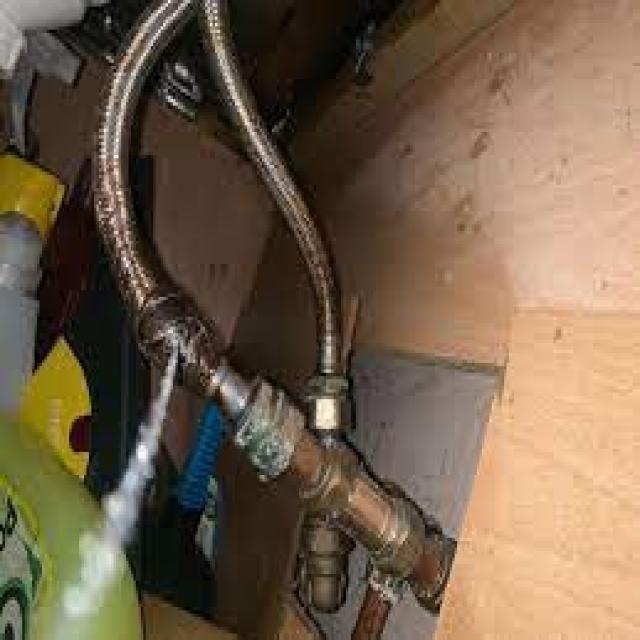pipe burst: (55, 334, 186, 631)
